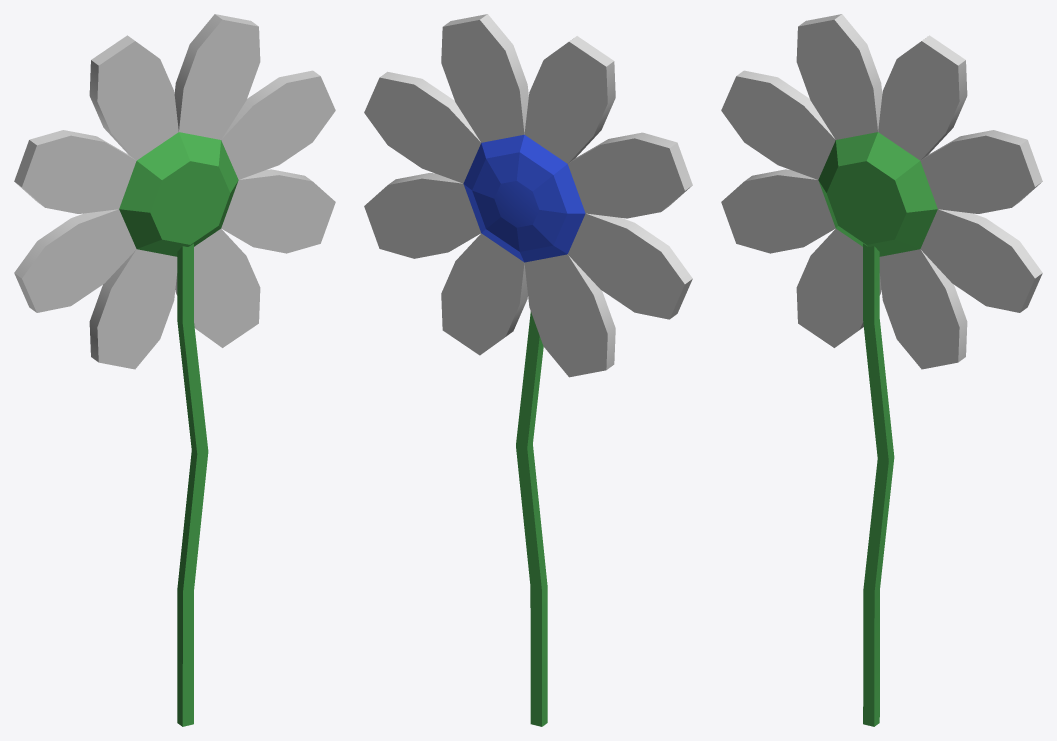
The model's file is flower-blue.glb.
The picture shows the model from 3 angles, left to right: view 1: azimuth 30°, elevation 25°; view 2: azimuth 150°, elevation 25°; view 3: azimuth 330°, elevation 25°; orthographic projection. The views are drawn at different scales.
Visible parts, largest first — view 1: pCylinder25; view 2: pCylinder25; view 3: pCylinder25.
Part boxes in pixels (x1=…): pCylinder25: x1=14, y1=14, x2=335, y2=726; pCylinder25: x1=364, y1=14, x2=692, y2=726; pCylinder25: x1=721, y1=14, x2=1042, y2=726.
Bounding box in the file's own units: 1.26 × 2.65 × 0.1956.
